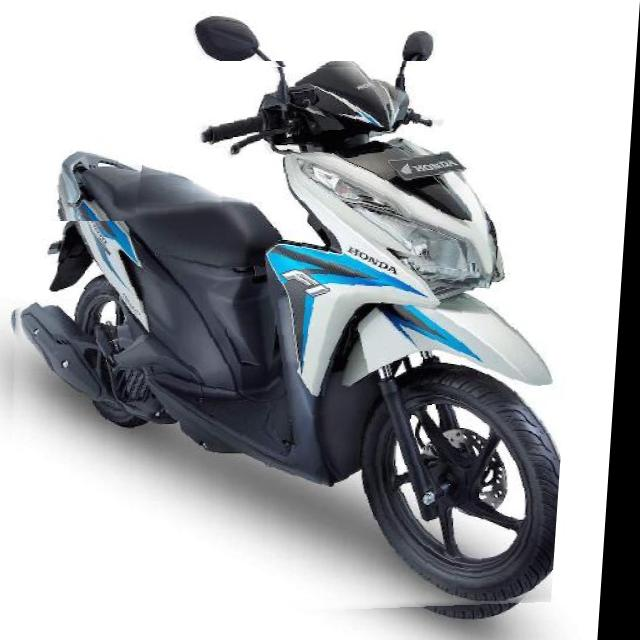All: (0, 61, 588, 622)
Head: (197, 67, 418, 161)
Tail: (50, 148, 146, 222)
